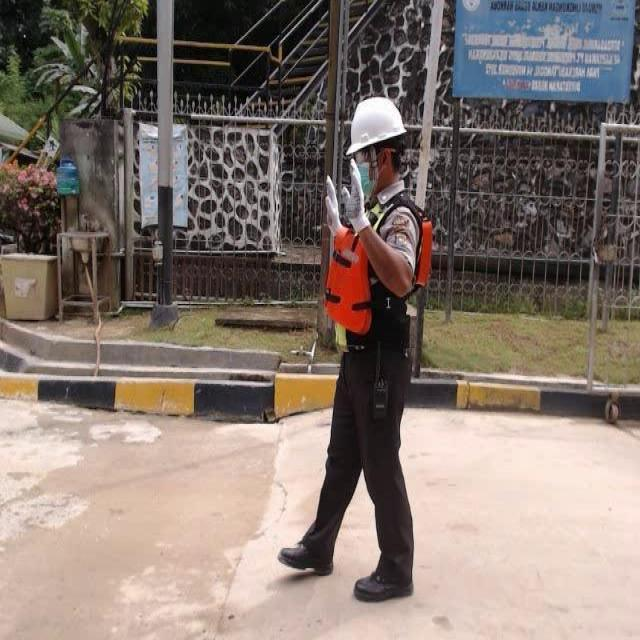helmet: (346, 84, 422, 160)
